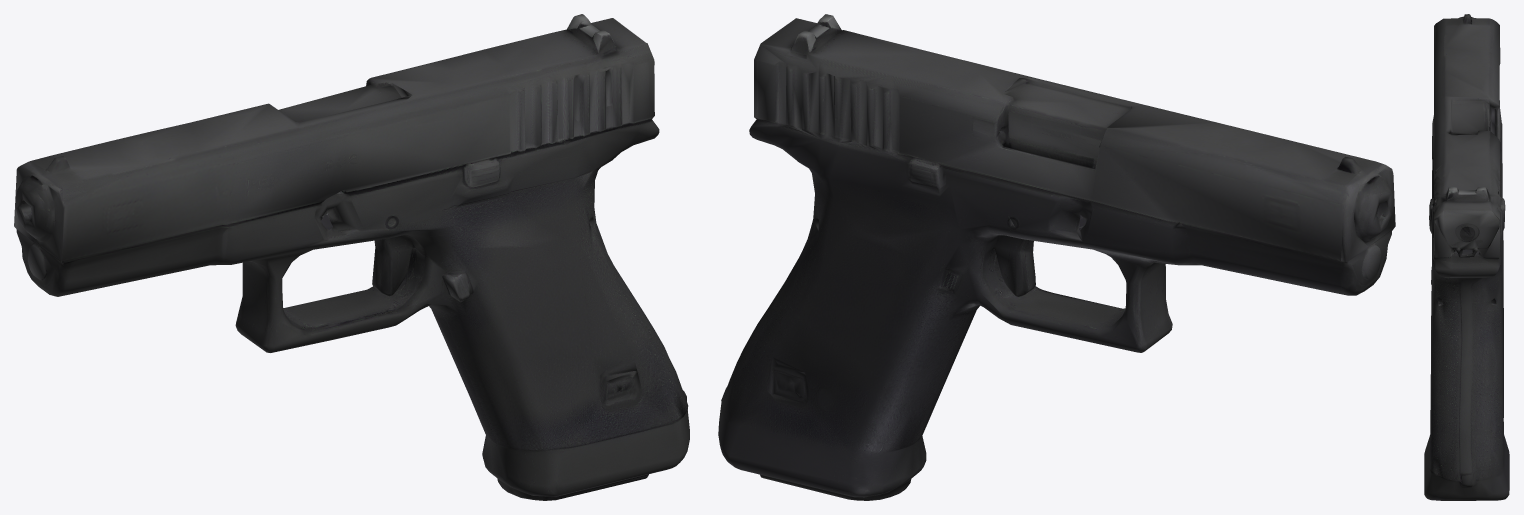
File: Glock.fbx
3 renders of one model, left to right at view 1: azimuth 30°, elevation 25°; view 2: azimuth 150°, elevation 25°; view 3: azimuth 270°, elevation 25°, orthographic. The views are drawn at different scales.
Visible parts, largest first — view 1: Mesh_0; view 2: Mesh_0; view 3: Mesh_0.
Boxes of the visible parts, x1,y1,x2,y2 form: Mesh_0: (14, 14, 689, 500); Mesh_0: (718, 14, 1395, 500); Mesh_0: (1424, 14, 1509, 500).
Size of the model in its own units: 191 by 124 by 31.78.
1 material, 1 textured.
